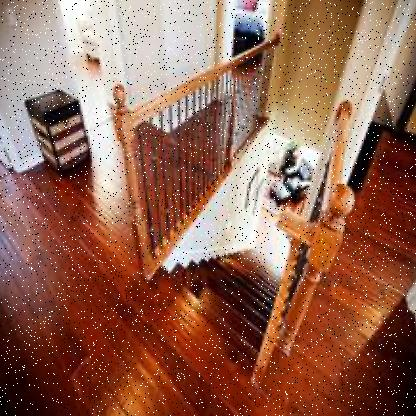stair_down: (163, 223, 289, 358)
